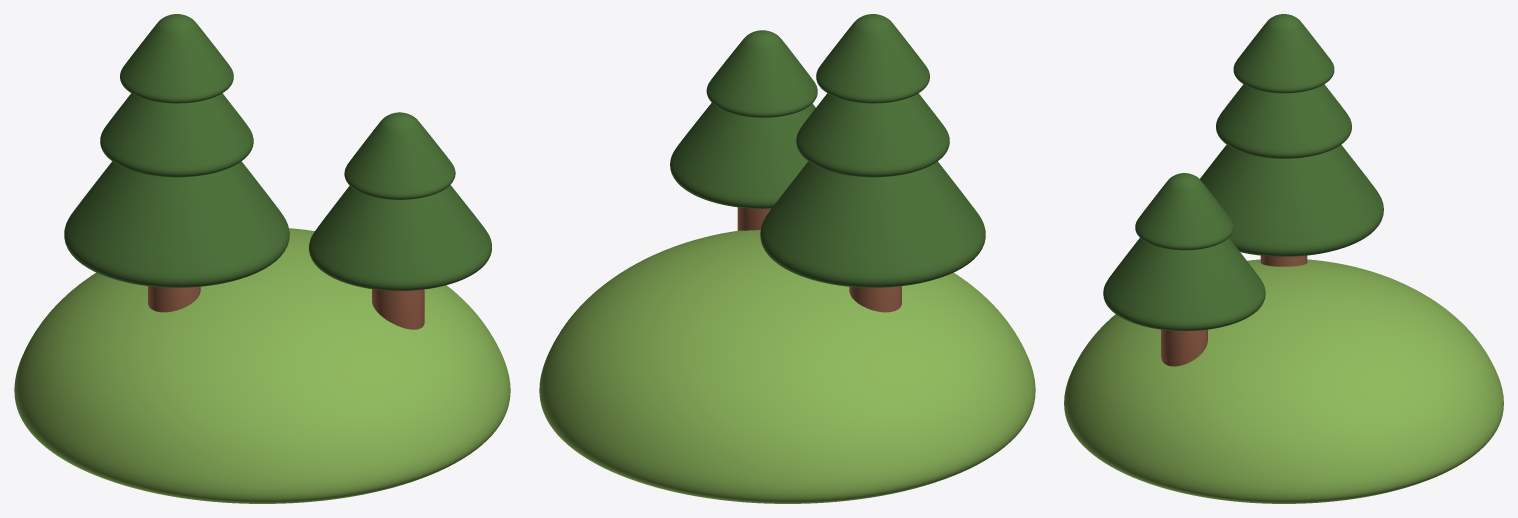
Rendered from outdoor-animated-3d-icon-107499830943.glb.
3 renders of one model, left to right at view 1: azimuth 30°, elevation 25°; view 2: azimuth 150°, elevation 25°; view 3: azimuth 270°, elevation 25°, orthographic. The views are drawn at different scales.
Parts seen in each view (by area): view 1: Ground, Leaves (×2), Stem.001, Stem; view 2: Ground, Leaves (×2), Stem, Stem.001; view 3: Ground, Leaves (×2), Stem.001, Stem.
Boxes of the visible parts, box(x1,y1,x2,y2) form: Ground: box(14, 228, 510, 503); Leaves (×2): box(64, 14, 491, 290); Stem.001: box(372, 289, 424, 329); Stem: box(148, 286, 200, 312); Ground: box(539, 230, 1035, 503); Leaves (×2): box(670, 14, 985, 287); Stem: box(849, 286, 901, 312); Stem.001: box(737, 207, 771, 230); Ground: box(1064, 259, 1503, 503); Leaves (×2): box(1103, 14, 1383, 331); Stem.001: box(1161, 329, 1207, 366); Stem: box(1260, 255, 1307, 266).
Bounding box in the file's own units: 1.96 × 1.79 × 1.96.
